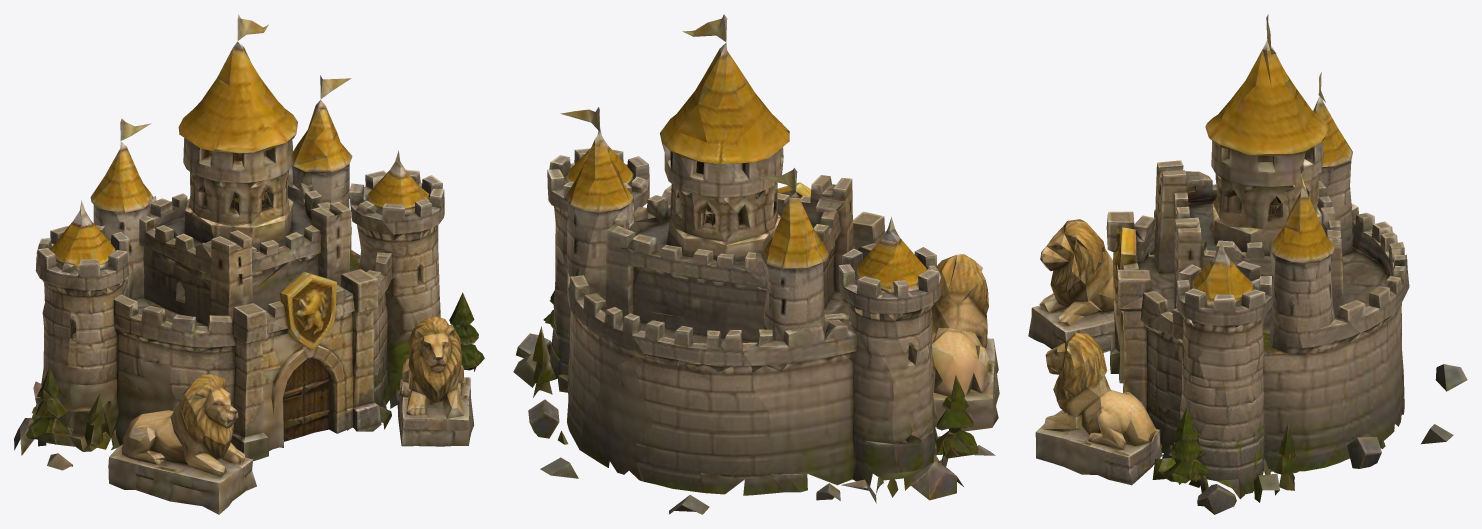
File: home_lions.glb
3 views of the same model, side by side, from view 1: azimuth 30°, elevation 25°; view 2: azimuth 150°, elevation 25°; view 3: azimuth 270°, elevation 25° (orthographic). The views are drawn at different scales.
Size of the model in its own units: 2.01 by 1.72 by 1.73.
1 material, 1 textured.
